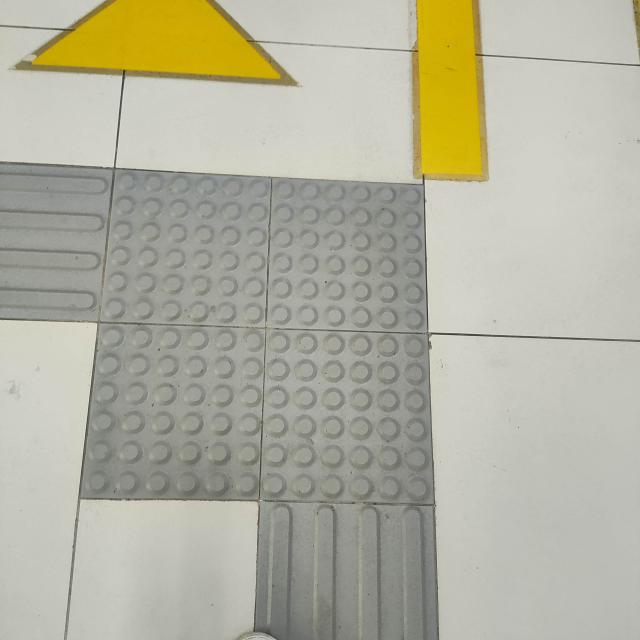kiri: (0, 111, 571, 640)
